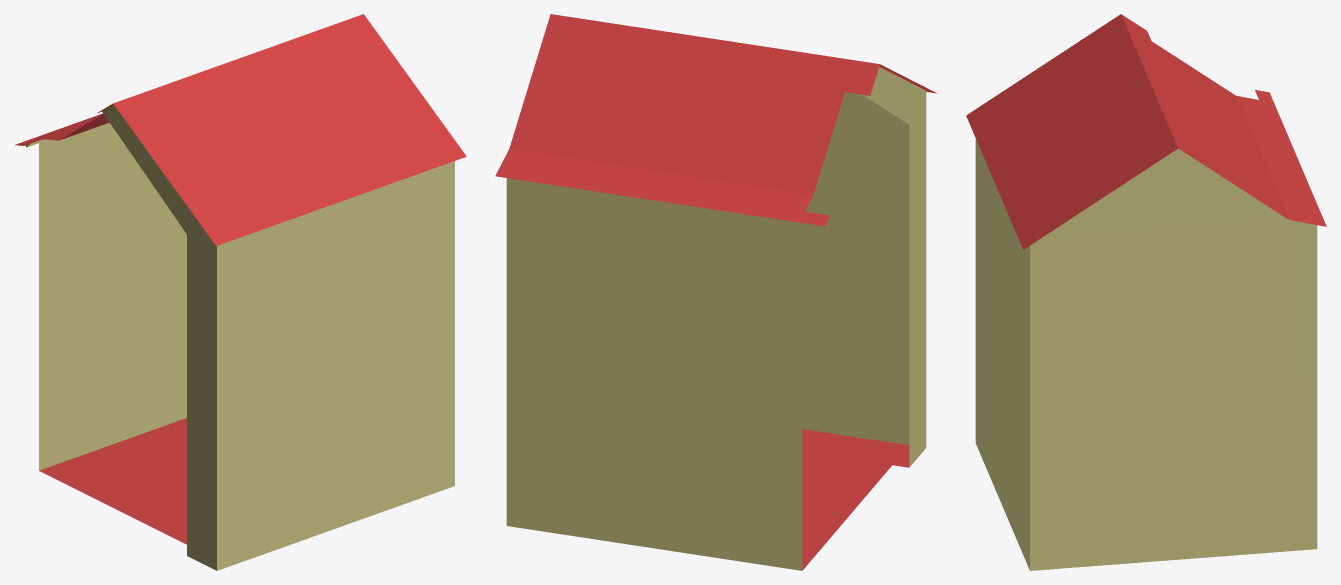
3 renders of one model, left to right at view 1: azimuth 30°, elevation 25°; view 2: azimuth 150°, elevation 25°; view 3: azimuth 270°, elevation 25°, orthographic. The views are drawn at different scales.
Bounding box in the file's own units: 11.24 × 10.88 × 13.8.
